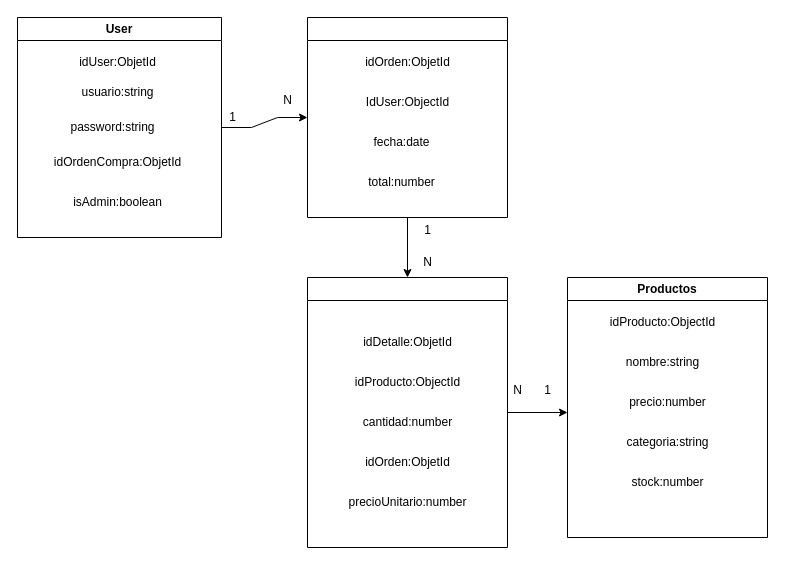
Some shapes in this 785 by 565 pixel diagram are drawn without their labels. Each missing label, with the box of its shape:
Detalle de compra: (306, 276, 508, 548)
Orden de compra: (306, 16, 508, 218)
